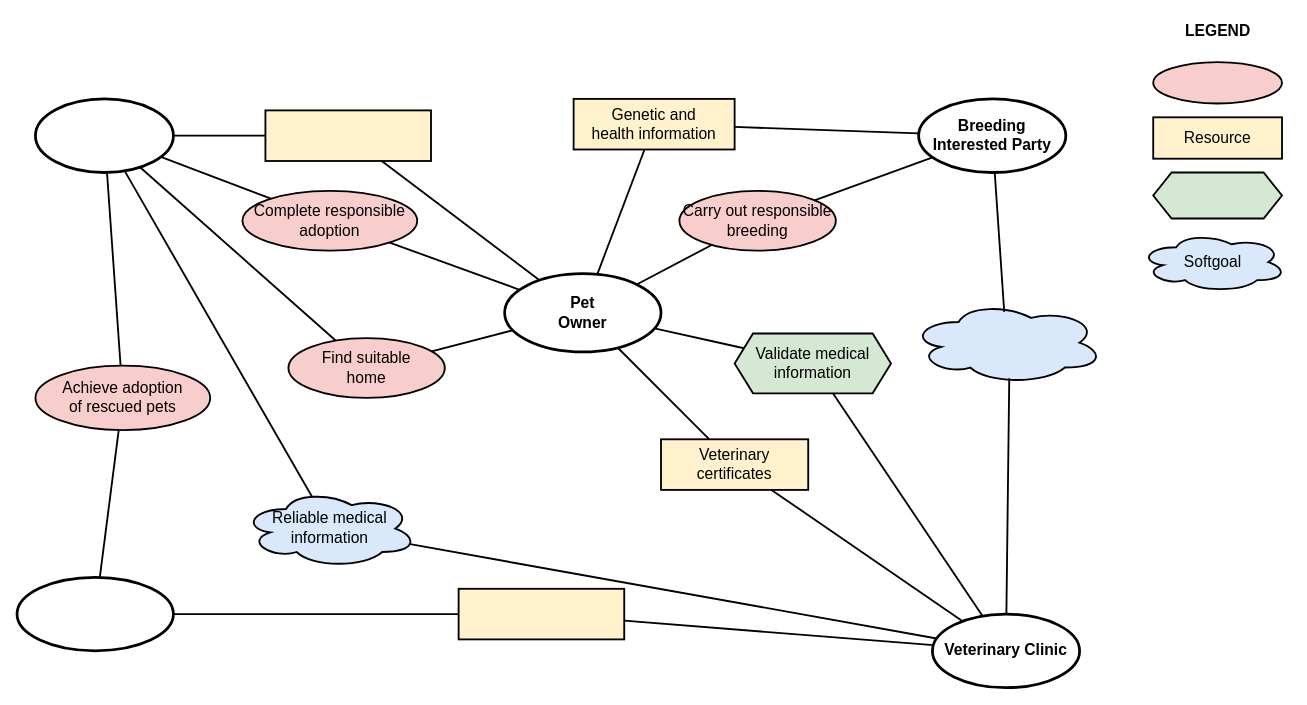
Image size: 1307x705. Some labels were removed from this diagram. Here are the shapes that lost their labels. From the top down, the box of each, then its label:
(1152, 61, 1282, 104): Goal
(34, 97, 174, 173): Adopter
(264, 109, 431, 161): Complete pet information
(1152, 171, 1282, 219): Task
(909, 300, 1104, 385): Reliable genetic and health information
(15, 575, 174, 652): Animal Shelter
(457, 587, 625, 640): Validated health information
